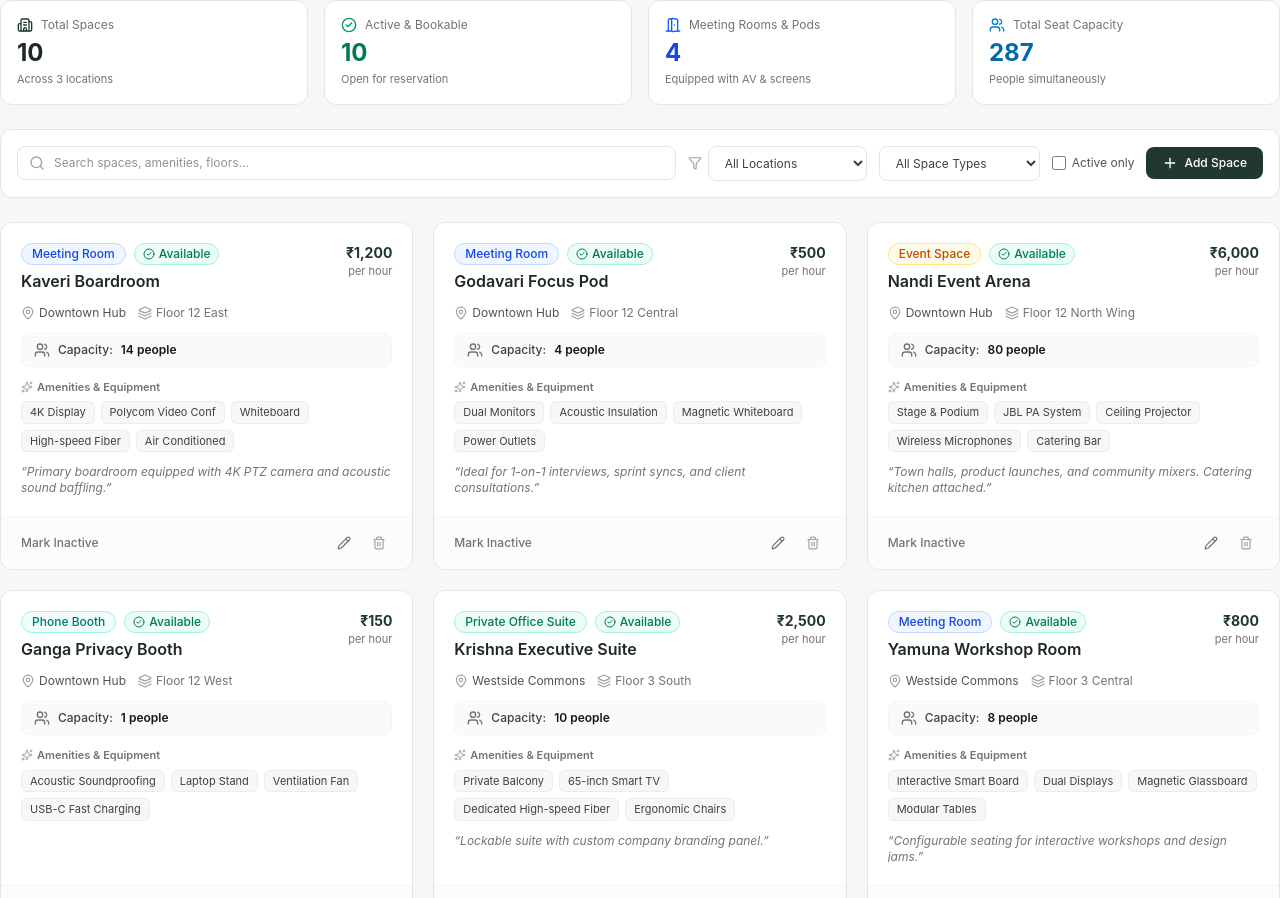
Test: SpacesDirectory Component › filters spaces based on search query
The image size is (1280, 898).
Type "Podcast" into the field with placeholder "Search spaces, amenities, floors..." at x=346, y=163, box [17,146,676,180]
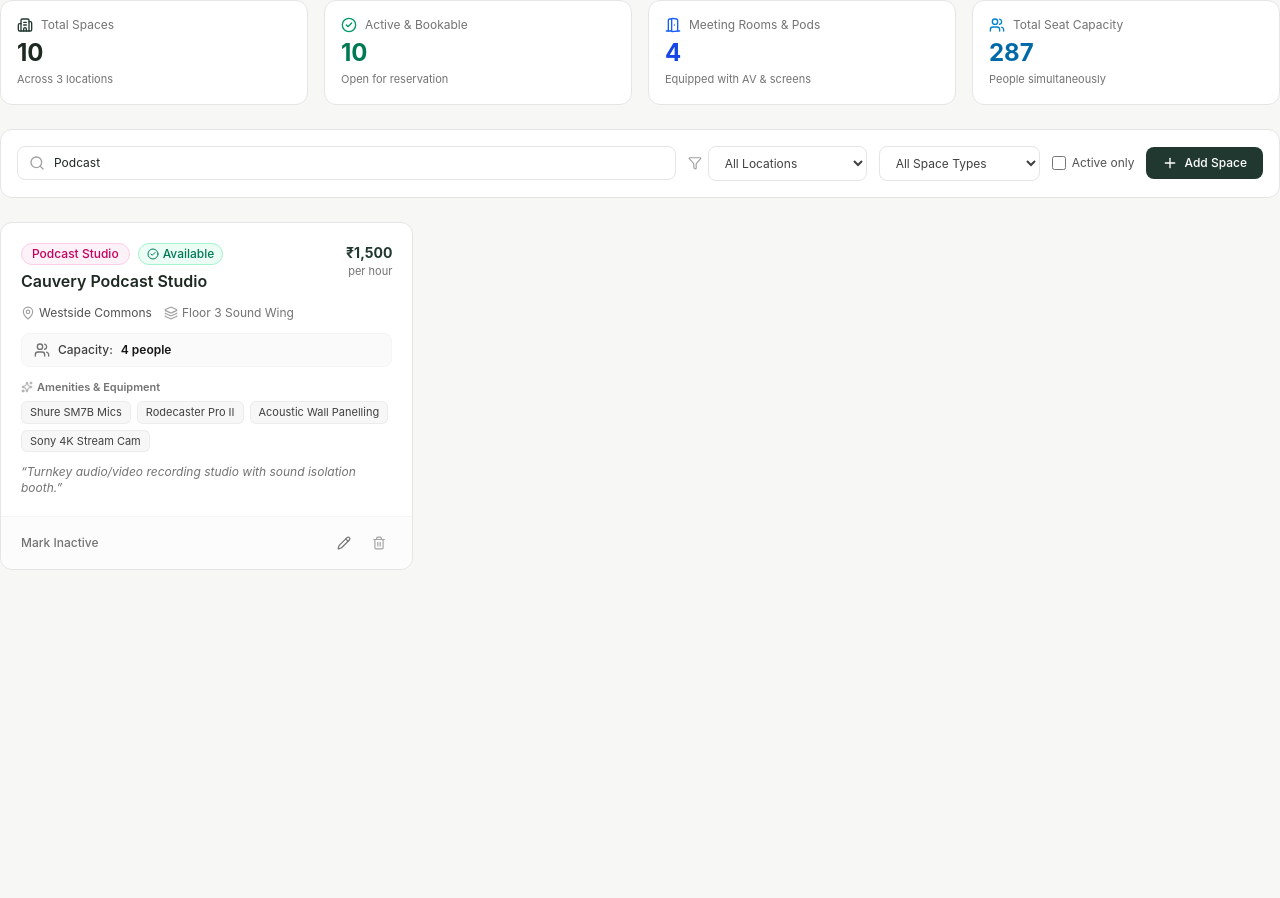
Expected: the heading "Cauvery Podcast Studio" is shown, [21,268,223,292]
Expected: the heading "Kaveri Boardroom" is gone
